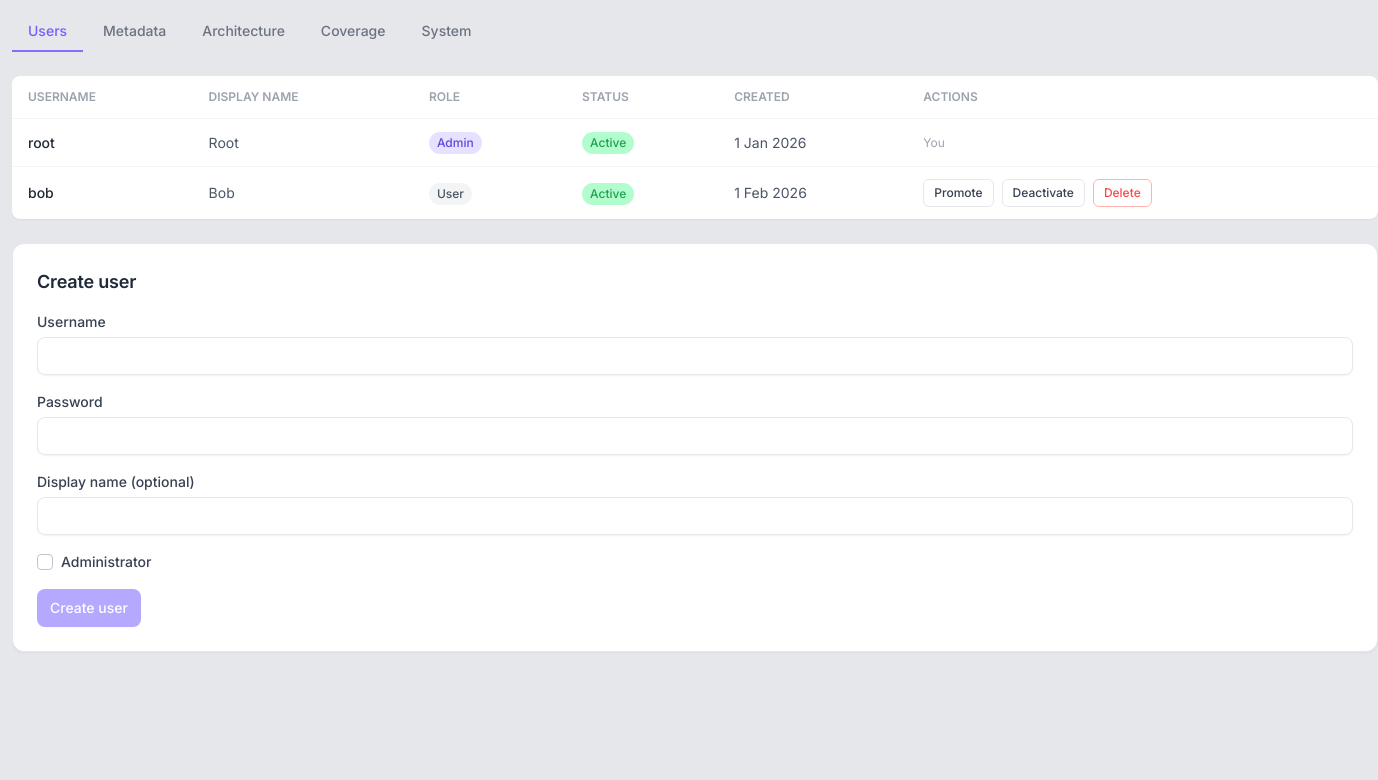
AdminView › loads recipients on first opening the Metadata tab, with document counts
Step 1. Click the tab with test id "admin-tab-metadata-btn" → coordinates (135, 32), box [87, 12, 182, 52]
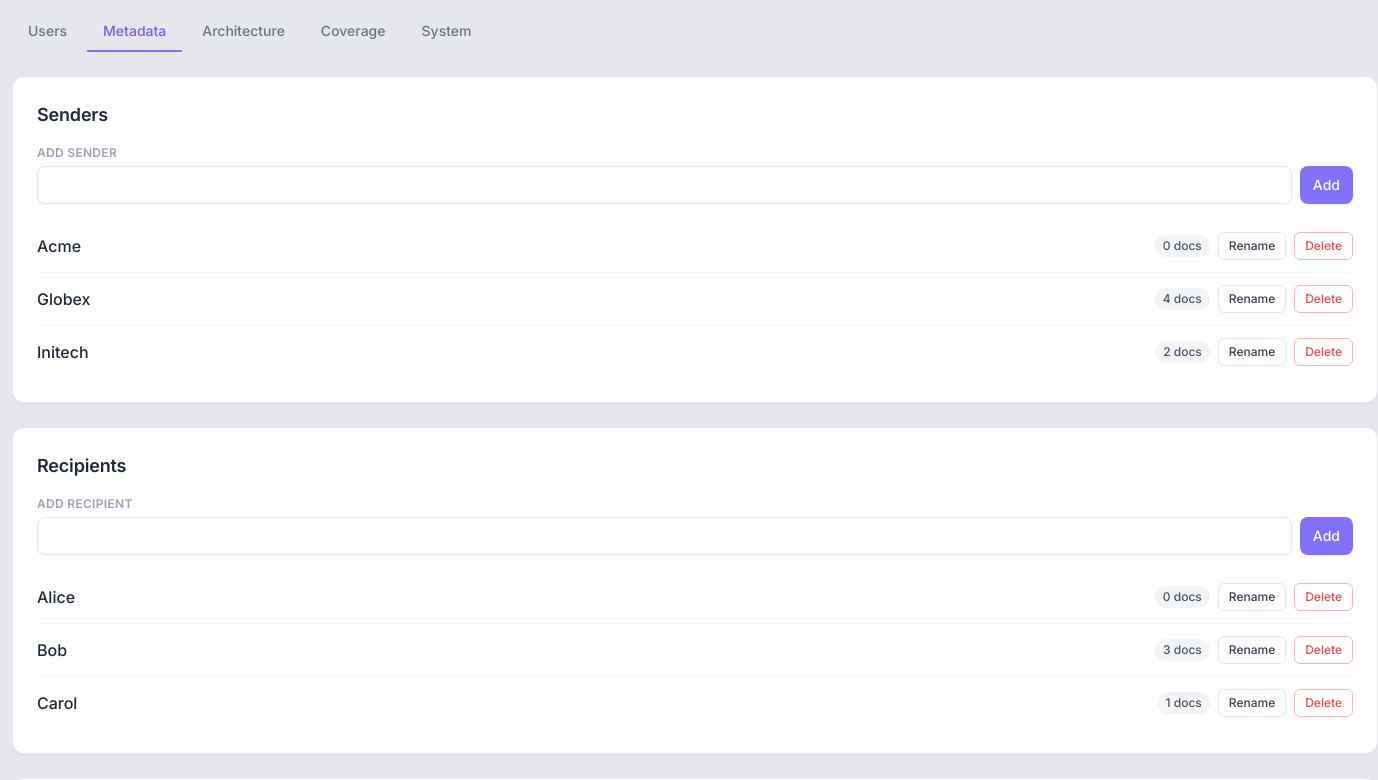
Expected: the list item with test id "recipient-row-11" shows "Bob", [37, 640, 67, 660]
Expected: the list item with test id "recipient-row-11" shows "3 docs", [1163, 642, 1202, 657]
